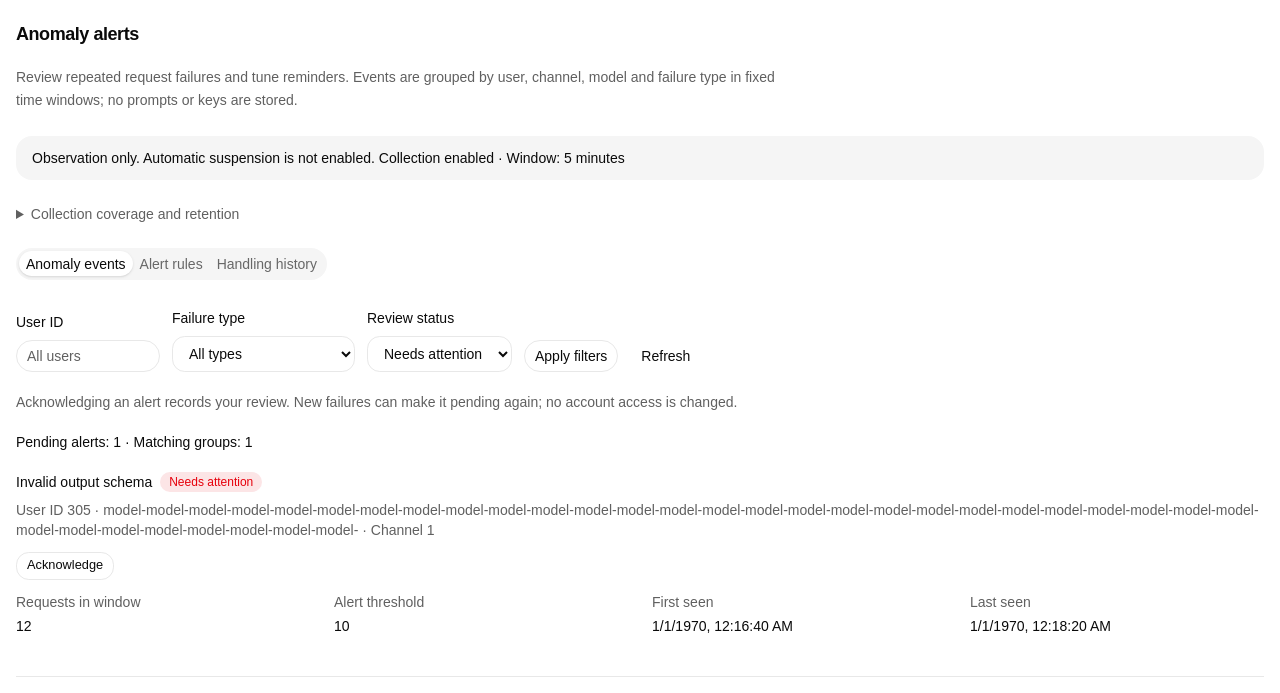
Test: handling history has a useful empty state
The image size is (1280, 693).
Click the tab "Handling history" at (267, 264), box [210, 251, 324, 276]
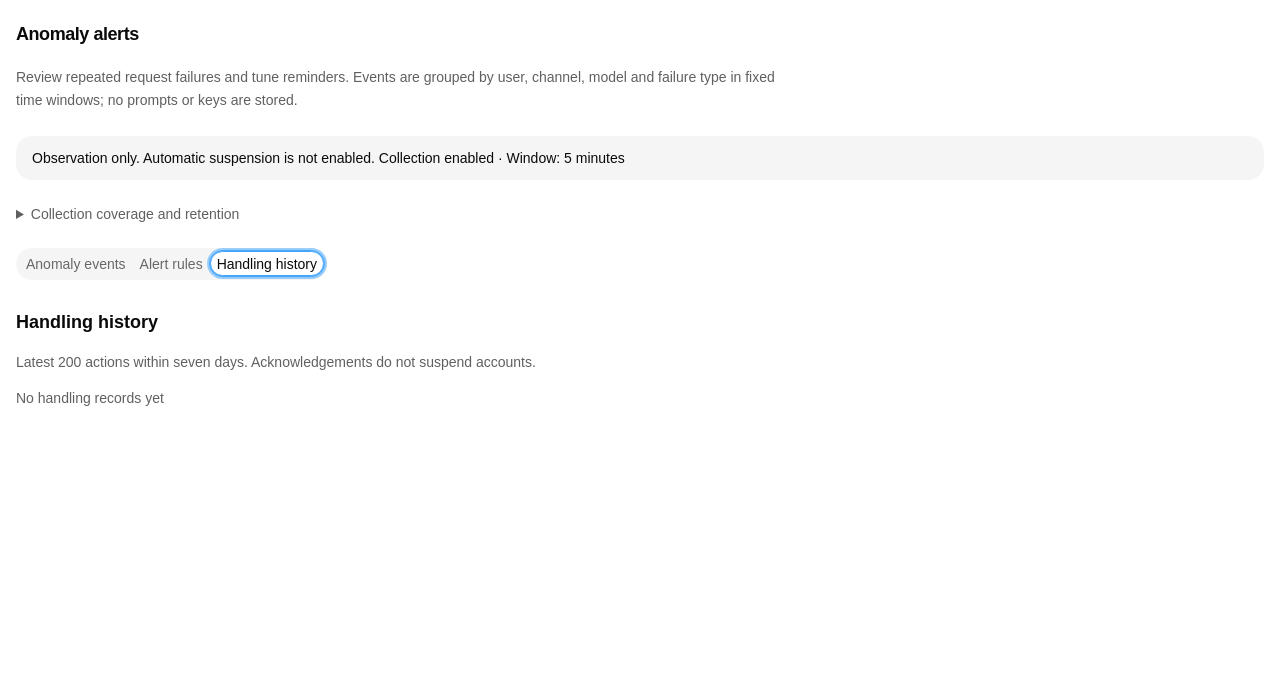
Result: the text "No handling records yet" is shown at [16, 390, 164, 406]
